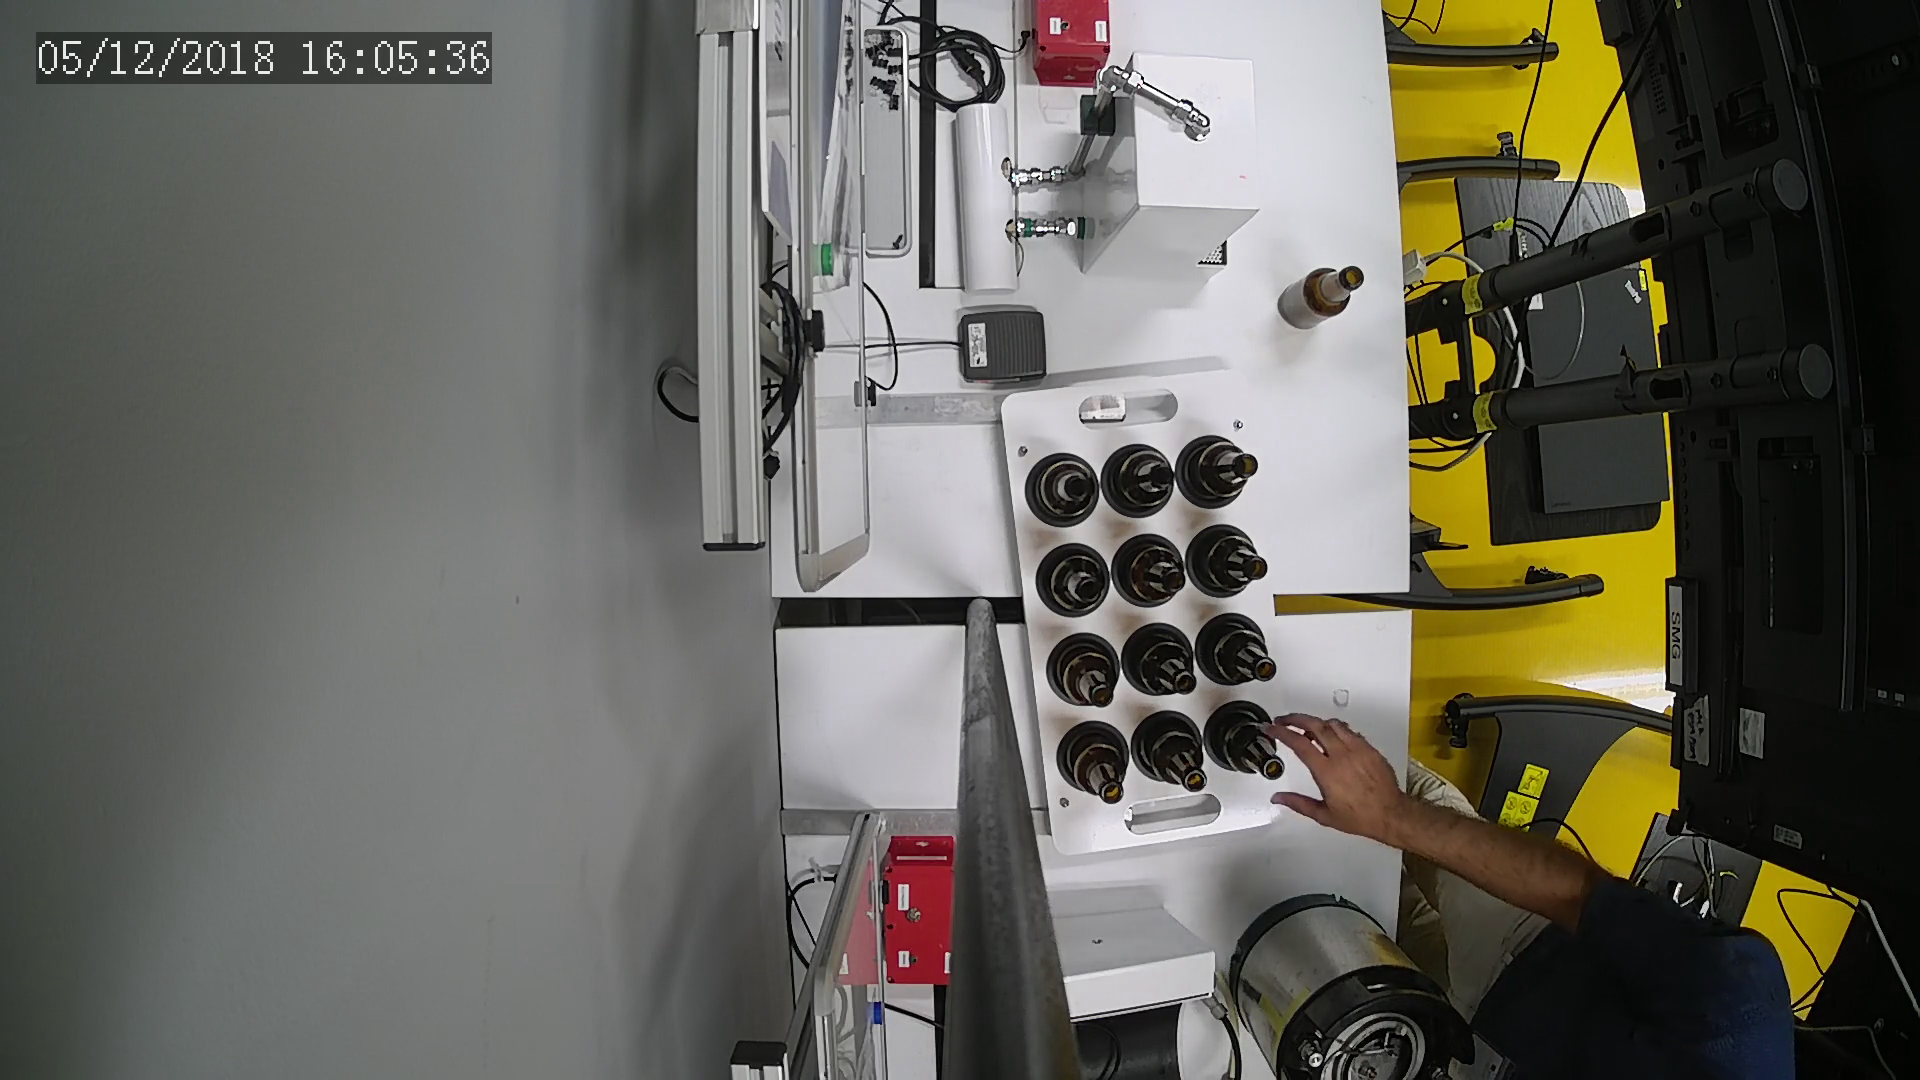filled_bottle: (1129, 711, 1216, 799), (1106, 527, 1195, 613), (1058, 716, 1133, 816), (1189, 522, 1274, 607), (1197, 609, 1280, 694), (1212, 698, 1287, 790), (1043, 628, 1124, 713), (1031, 541, 1118, 618), (1101, 440, 1176, 526), (1120, 622, 1203, 699), (1026, 454, 1104, 534), (1182, 434, 1261, 506)
trolley: (986, 365, 1298, 855)
unfilled_bottle: (1274, 265, 1367, 342)
